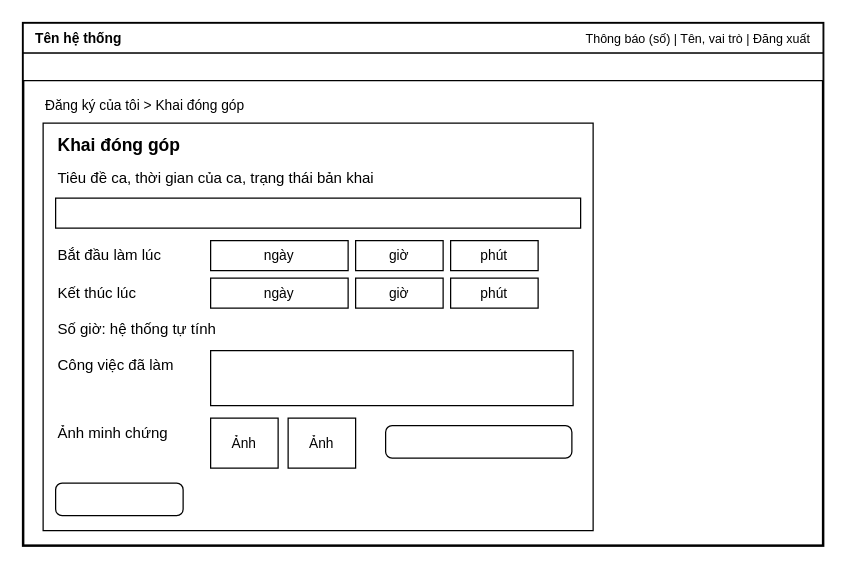
The diagram is 845 pixels wide and 568 high, and some of its shapes have lost their labels. The shapes that lost their labels are listed below. From the top down, each one's box as (x1, y1, x2, y2) in pixels, then its label:
(22, 52, 823, 81): Trang chủ | Tìm ca làm | Đăng ký của tôi | Lịch sử đóng góp | Hồ sơ và kỹ năng
(54, 197, 581, 228): Giờ lấy theo điểm danh: giờ vào, giờ ra (nếu đã điểm danh đủ)
(384, 424, 572, 458): Thêm ảnh (tối đa 5)
(54, 482, 183, 516): Gửi bản khai
